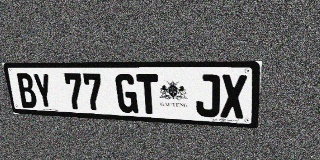7: (81, 73, 105, 112), (63, 73, 86, 111)
B: (15, 73, 38, 108)
G: (115, 74, 138, 113)
J: (196, 74, 220, 118)
T: (136, 74, 160, 114)
X: (220, 74, 247, 119)
Y: (32, 73, 55, 109)
